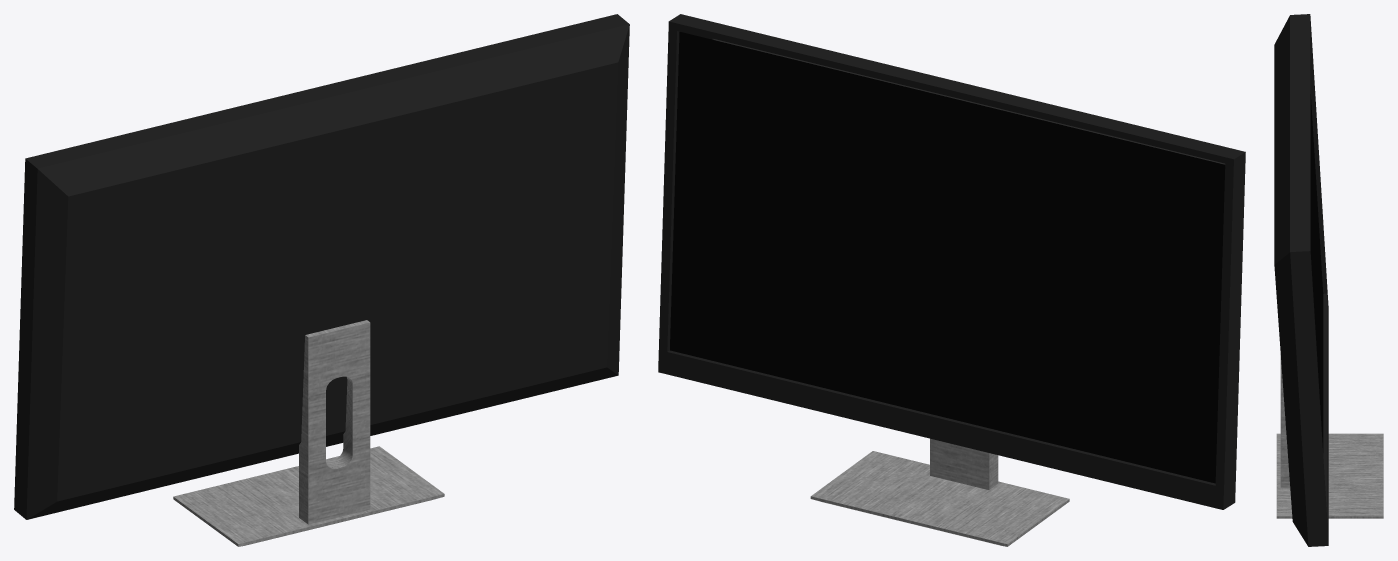
The model's file is monitor.glb.
3 views of the same model, side by side, from view 1: azimuth 30°, elevation 25°; view 2: azimuth 150°, elevation 25°; view 3: azimuth 270°, elevation 25° (orthographic). The views are drawn at different scales.
Parts seen in each view (by area): view 1: SM_Monitor; view 2: SM_Monitor; view 3: SM_Monitor.
Part boxes in pixels (<box>): SM_Monitor: <box>14,14,629,546</box>; SM_Monitor: <box>658,14,1245,546</box>; SM_Monitor: <box>1274,14,1383,546</box>.
Size of the model in its own units: 0.745 by 0.5124 by 0.1451.
Materials: 1 (1 with a texture image).
